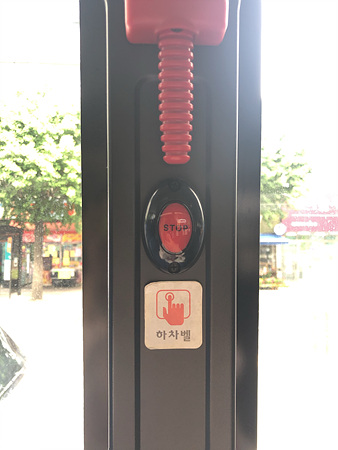bell: (142, 179, 206, 273)
